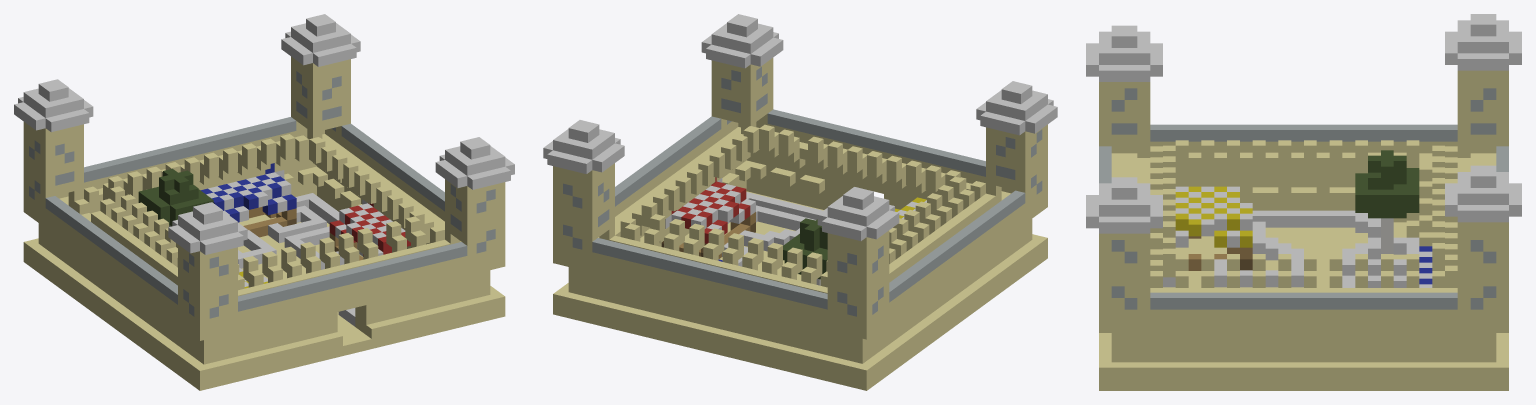
The model's file is castle.obj.
3 renders of one model, left to right at view 1: azimuth 30°, elevation 25°; view 2: azimuth 150°, elevation 25°; view 3: azimuth 270°, elevation 25°, orthographic. The views are drawn at different scales.
Visible parts, largest first — view 1: sandstone_side, wool_light_gray, sandstone_top, nether_brick, wool_dark_gray, wool_white, leaves_birch, wool_blue, wool_red, plank_oak; view 2: sandstone_side, wool_light_gray, sandstone_top, nether_brick, wool_dark_gray, wool_white, wool_red, leaves_birch, plank_oak; view 3: sandstone_side, sandstone_top, nether_brick, wool_light_gray, wool_dark_gray, leaves_birch, wool_white, wool_yellow, plank_oak, log_birch_side.
Boxes of the visible parts, bbox=[...] form: sandstone_side: bbox=[23, 56, 505, 390]; wool_light_gray: bbox=[29, 71, 495, 318]; sandstone_top: bbox=[24, 134, 504, 370]; nether_brick: bbox=[14, 14, 514, 254]; wool_dark_gray: bbox=[238, 193, 355, 326]; wool_white: bbox=[206, 170, 405, 286]; leaves_birch: bbox=[138, 168, 213, 226]; wool_blue: bbox=[201, 163, 296, 222]; wool_red: bbox=[329, 203, 410, 256]; plank_oak: bbox=[243, 206, 363, 260]; sandstone_side: bbox=[553, 58, 1047, 390]; wool_light_gray: bbox=[563, 66, 1042, 316]; sandstone_top: bbox=[553, 124, 1047, 370]; nether_brick: bbox=[543, 14, 1057, 240]; wool_dark_gray: bbox=[722, 192, 822, 266]; wool_white: bbox=[665, 178, 926, 229]; wool_red: bbox=[671, 177, 750, 243]; leaves_birch: bbox=[783, 218, 827, 279]; plank_oak: bbox=[661, 212, 755, 258]; sandstone_side: bbox=[1099, 70, 1508, 390]; sandstone_top: bbox=[1099, 140, 1508, 367]; nether_brick: bbox=[1086, 14, 1521, 233]; wool_light_gray: bbox=[1099, 88, 1508, 309]; wool_dark_gray: bbox=[1163, 210, 1419, 287]; leaves_birch: bbox=[1355, 150, 1419, 218]; wool_white: bbox=[1175, 186, 1432, 287]; wool_yellow: bbox=[1175, 186, 1252, 247]; plank_oak: bbox=[1188, 236, 1252, 270]; log_birch_side: bbox=[1381, 218, 1393, 253].
Bounding box in the file's own units: 34 × 18 × 34.
